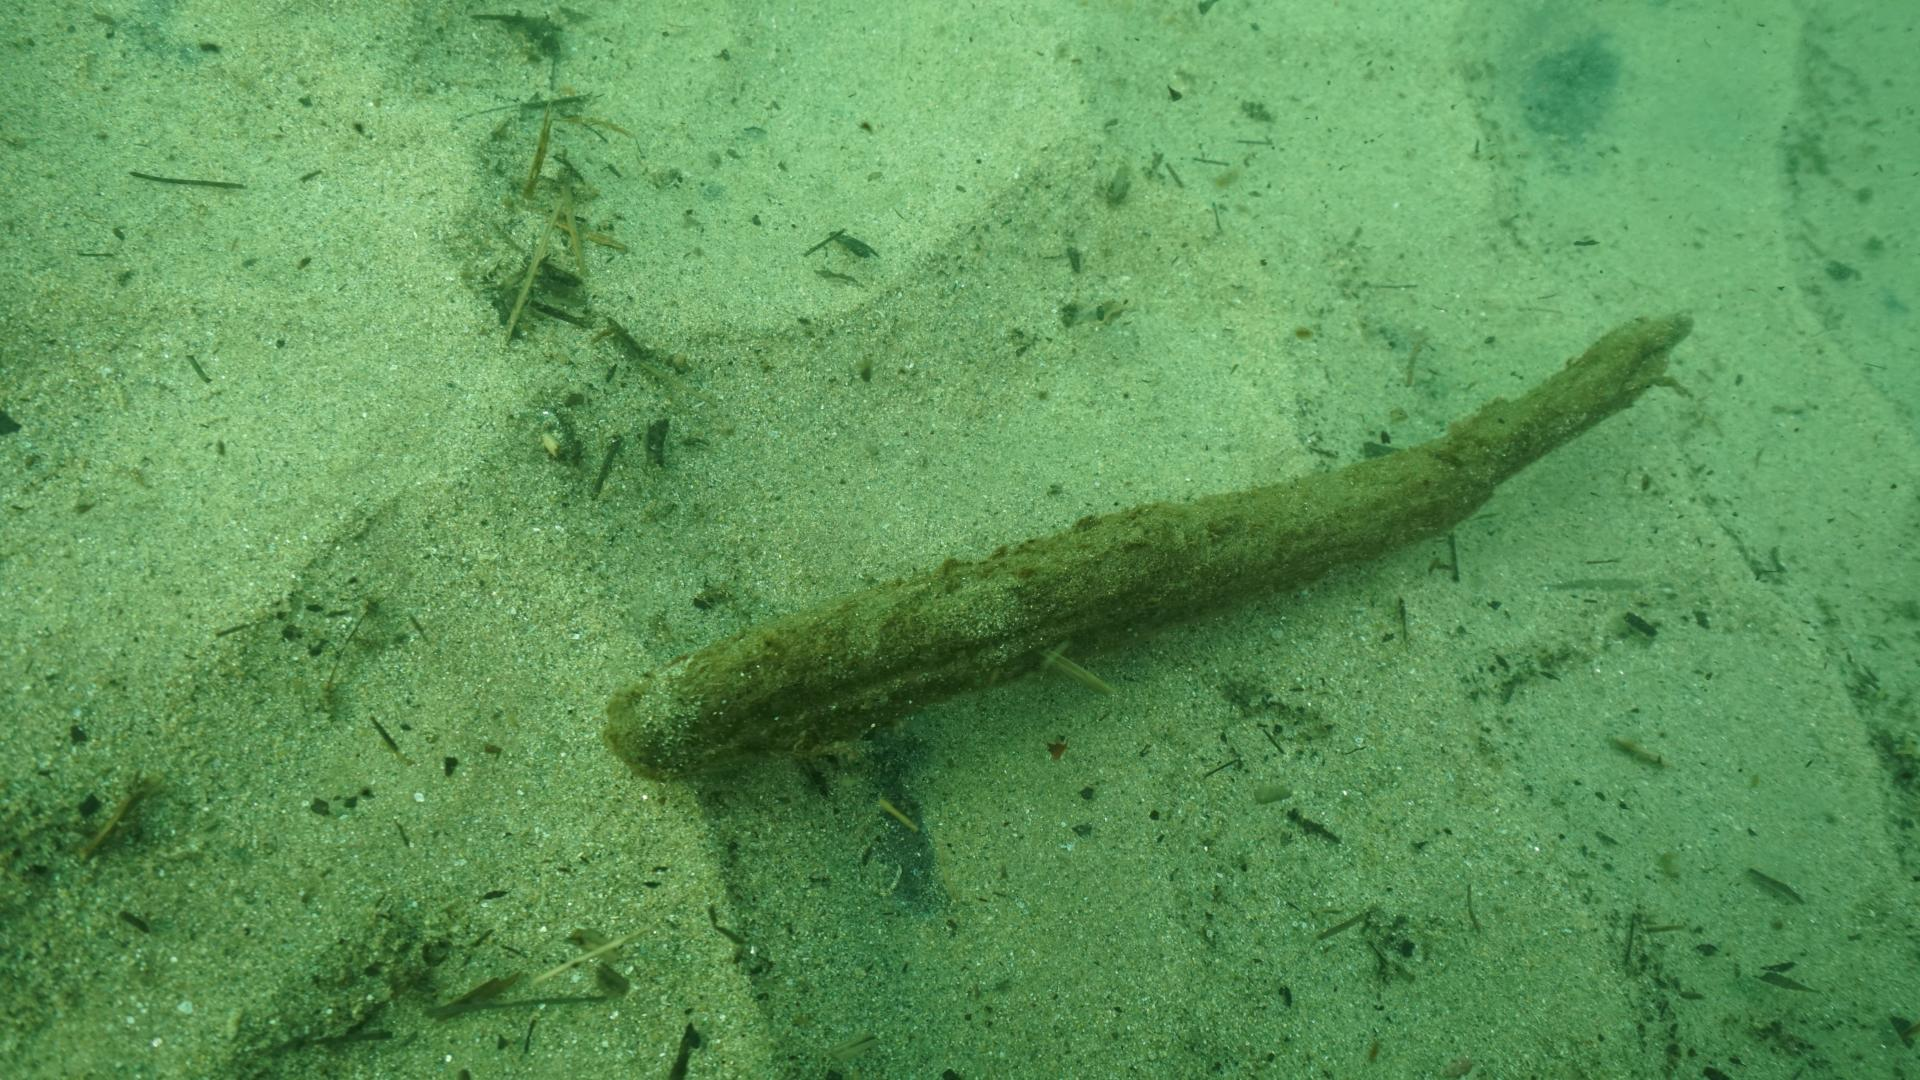wood: (603, 314, 1687, 775)
